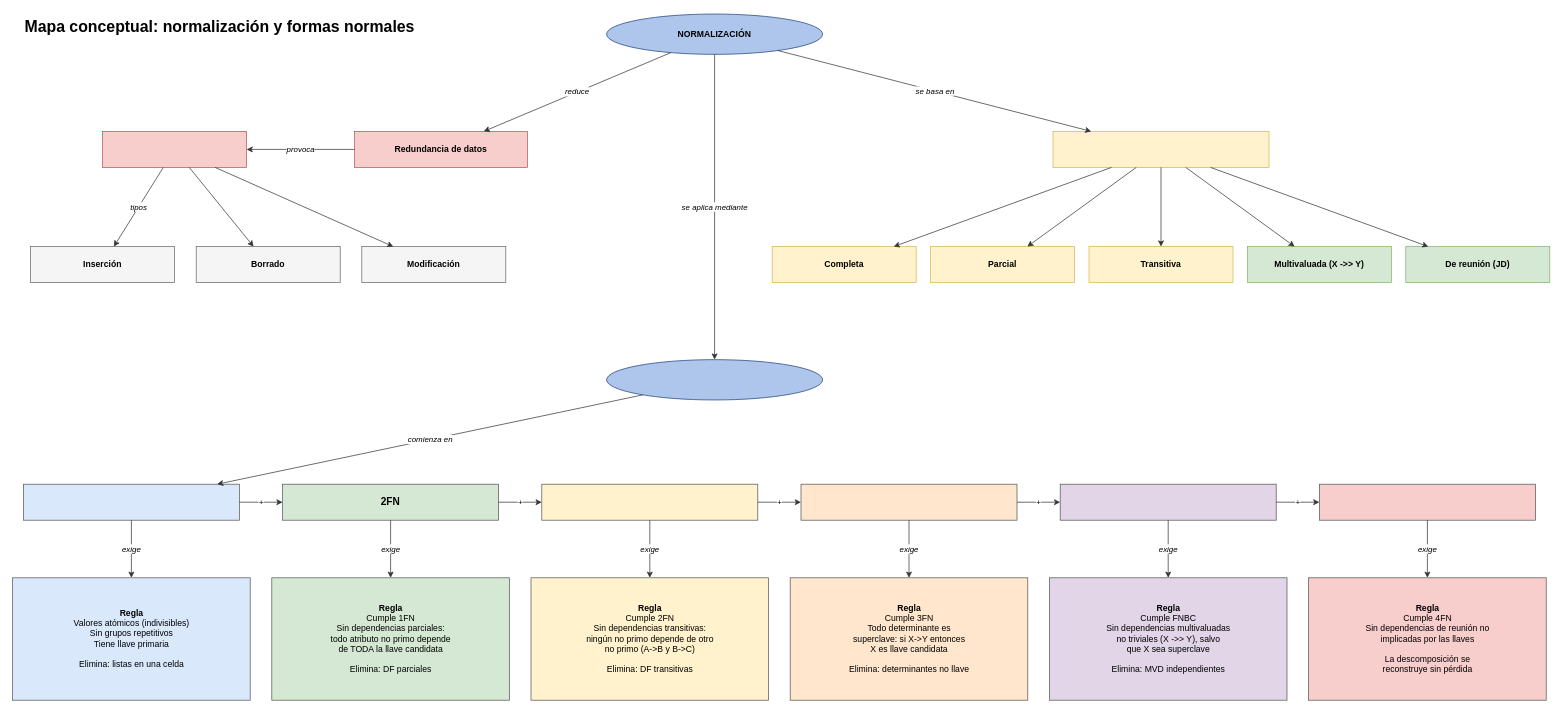
Some shapes in this 1562 by 713 pixel diagram are drawn without their labels. Each missing label, with the centre of its shape:
"1FN" belongs at [131,501].
"3FN" belongs at [649,501].
"4FN" belongs at [1167,501].
"5FN" belongs at [1427,501].
"Anomalías" belongs at [174,149].
"Dependencias funcionales" belongs at [1160,149].
"FNBC" belongs at [908,501].
"FORMAS NORMALES" belongs at [714,379].
